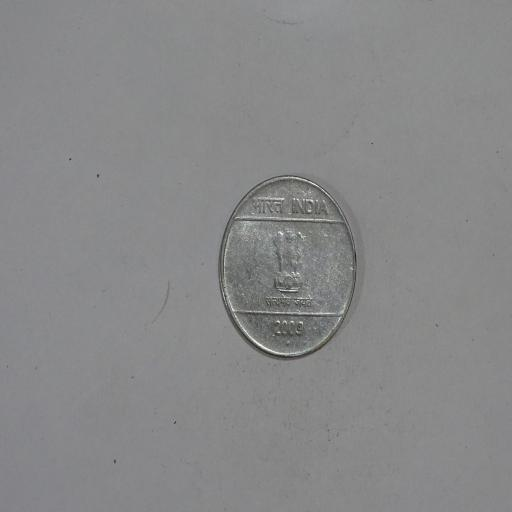rupee2: (216, 175, 356, 358)
